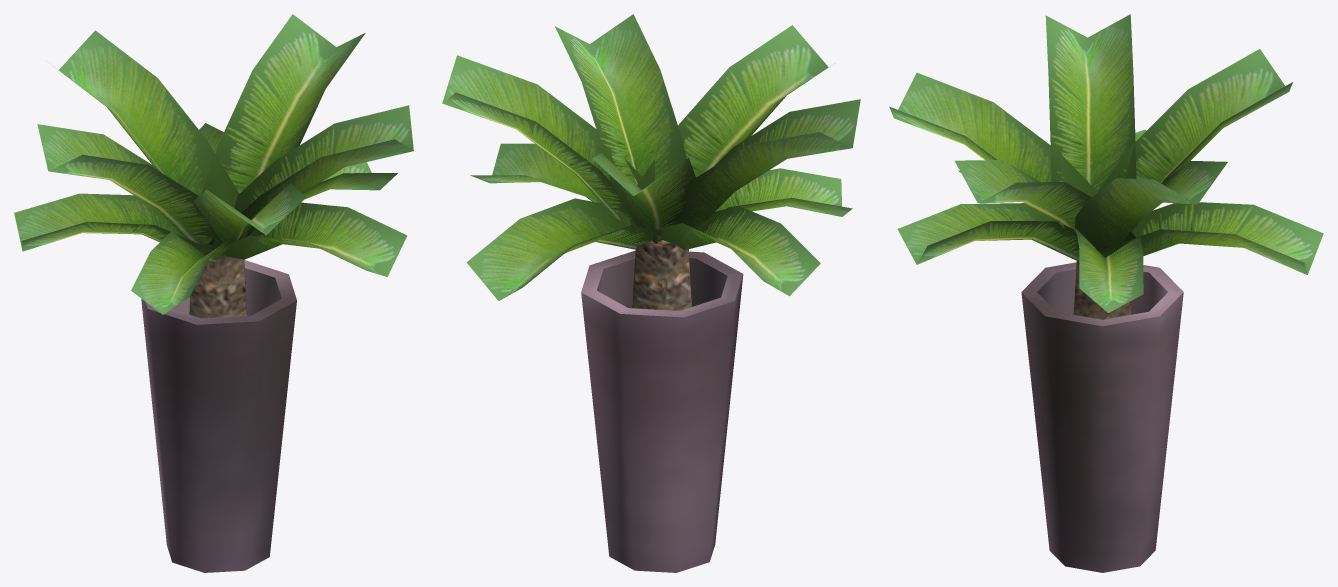
Rendered from Plant3.fbx.
3 views of the same model, side by side, from view 1: azimuth 30°, elevation 25°; view 2: azimuth 150°, elevation 25°; view 3: azimuth 270°, elevation 25° (orthographic). The views are drawn at different scales.
Visible parts, largest first — view 1: Empty_Mesh; view 2: Empty_Mesh; view 3: Empty_Mesh.
Boxes of the visible parts, x1,y1,x2,y2 form: Empty_Mesh: (14,14,413,572); Empty_Mesh: (442,14,860,572); Empty_Mesh: (889,14,1323,572).
Bounding box in the file's own units: 121 × 151 × 130.
